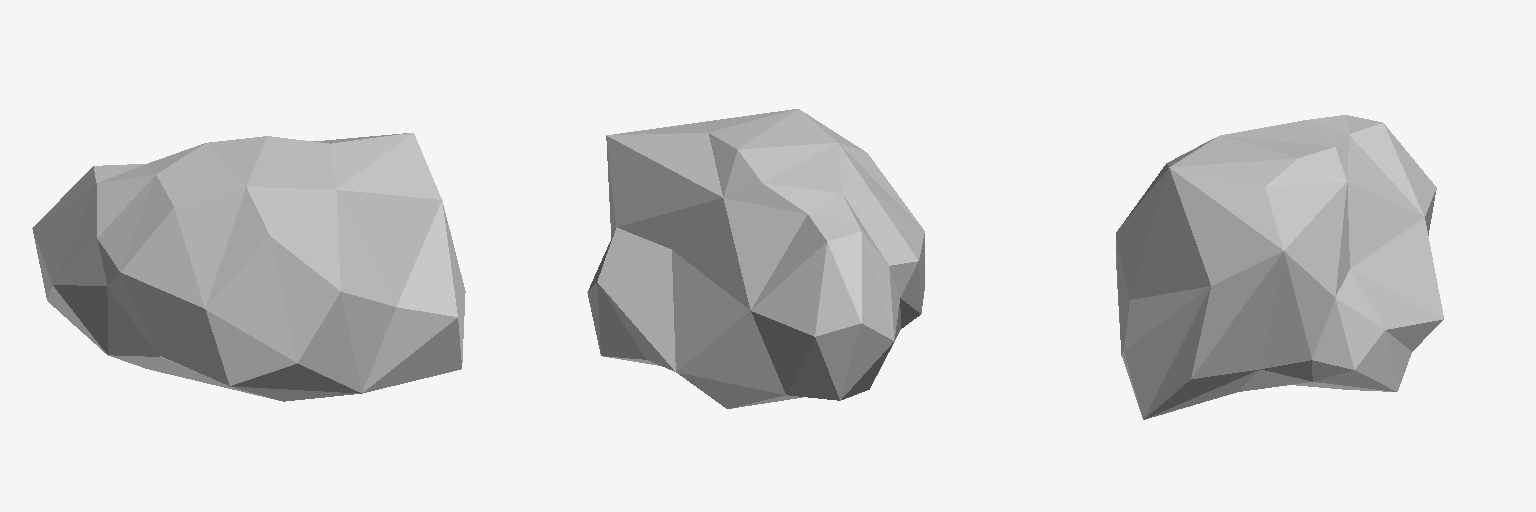
File: rock4.obj
The picture shows the model from 3 angles: view 1: azimuth 30°, elevation 25°; view 2: azimuth 150°, elevation 25°; view 3: azimuth 270°, elevation 25°; orthographic projection.
Visible parts, largest first — view 1: low_poly_rock_4; view 2: low_poly_rock_4; view 3: low_poly_rock_4.
Boxes of the visible parts, <box> form: low_poly_rock_4: <box>32,133,465,401</box>; low_poly_rock_4: <box>587,109,924,408</box>; low_poly_rock_4: <box>1116,115,1443,419</box>.
Bounding box in the file's own units: 2.14 × 1.34 × 1.85.